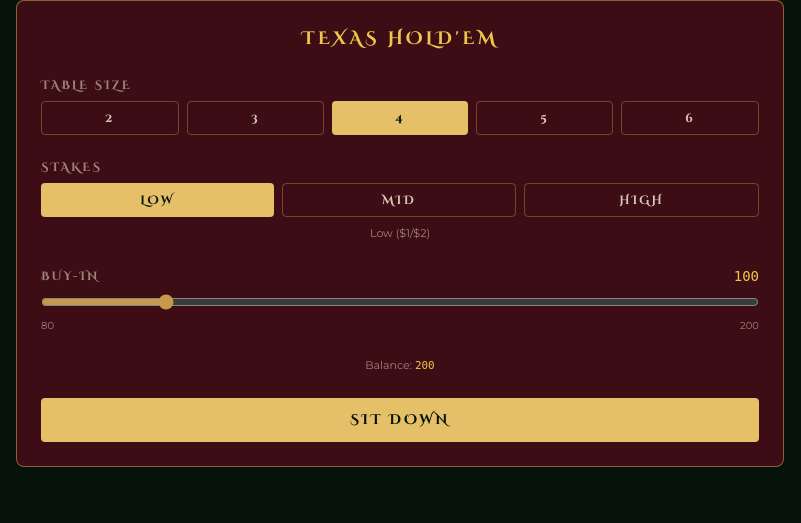
Test: SetupPanel › SIT DOWN is disabled for mid tier when balance < mid minBuyIn
The width and height of the screenshot is (801, 523).
Click the button "MID" at (399, 200), box [282,183,516,217]
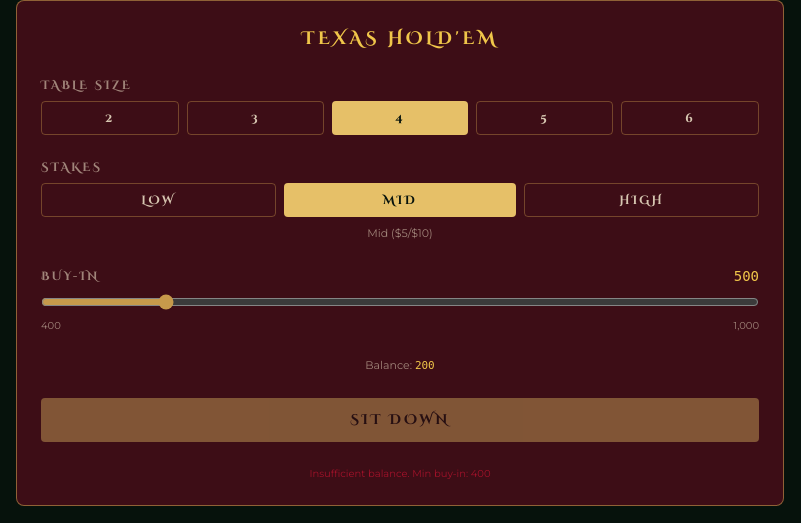
expect the button "SIT DOWN" is disabled: met, box [41,398,759,442]
